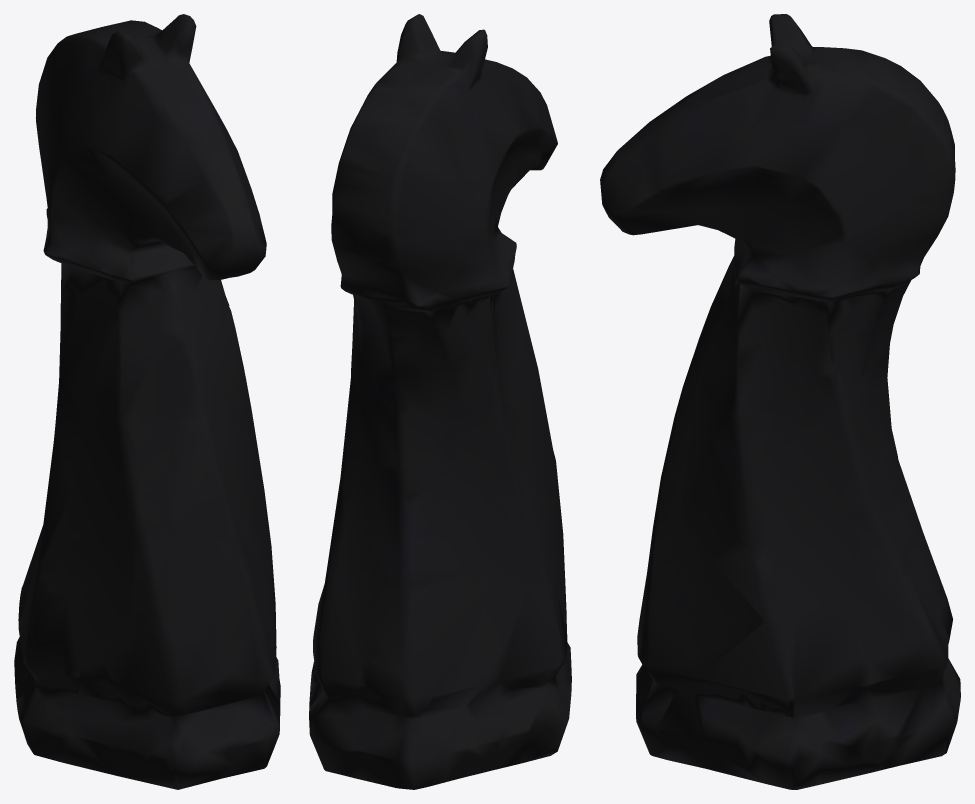
File: hexa_knight_black.glb
3 renders of one model, left to right at view 1: azimuth 30°, elevation 25°; view 2: azimuth 150°, elevation 25°; view 3: azimuth 270°, elevation 25°, orthographic.
Bounding box in the file's own units: 0.7519 × 2 × 0.9281.
1 material, 1 textured.
